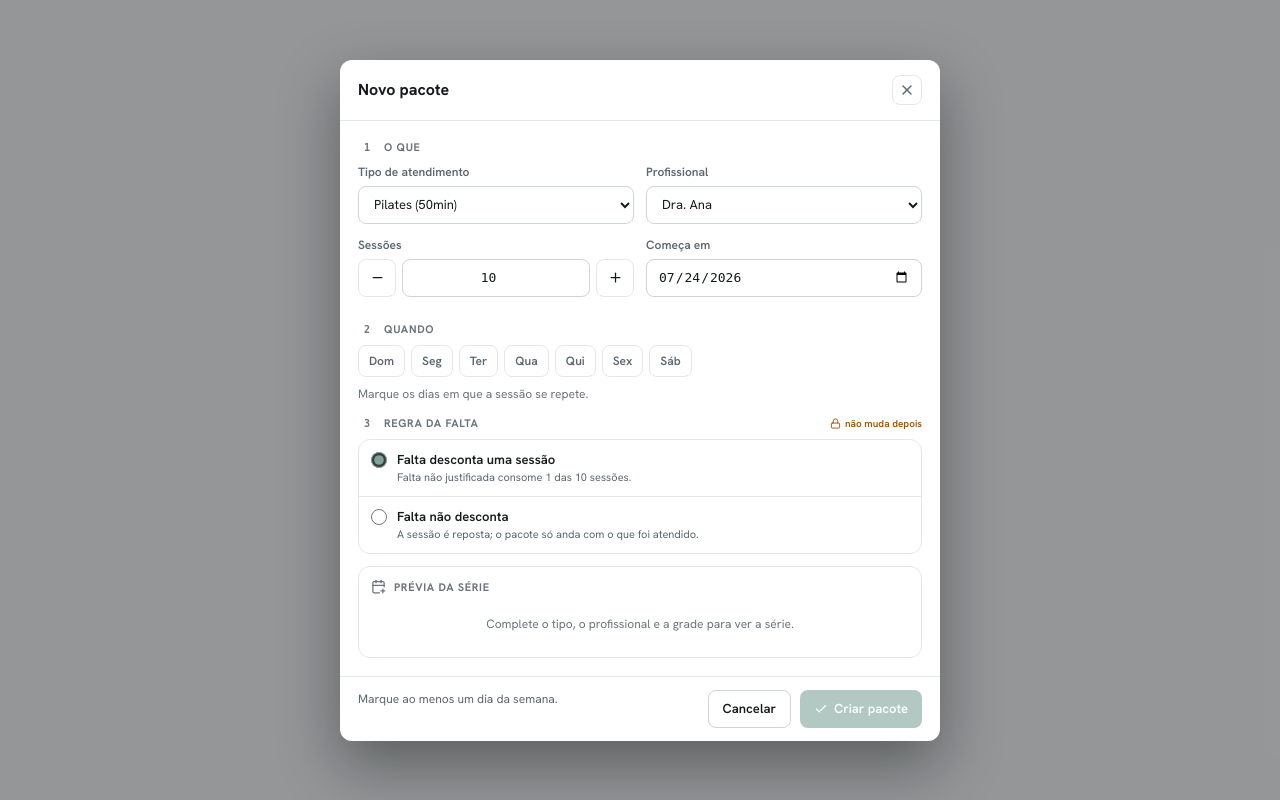
Test: PackageCreateModal › marcar um dia dispara a prévia ao vivo e habilita criar
Click the button "Seg" at (432,360), box [411,344,453,376]
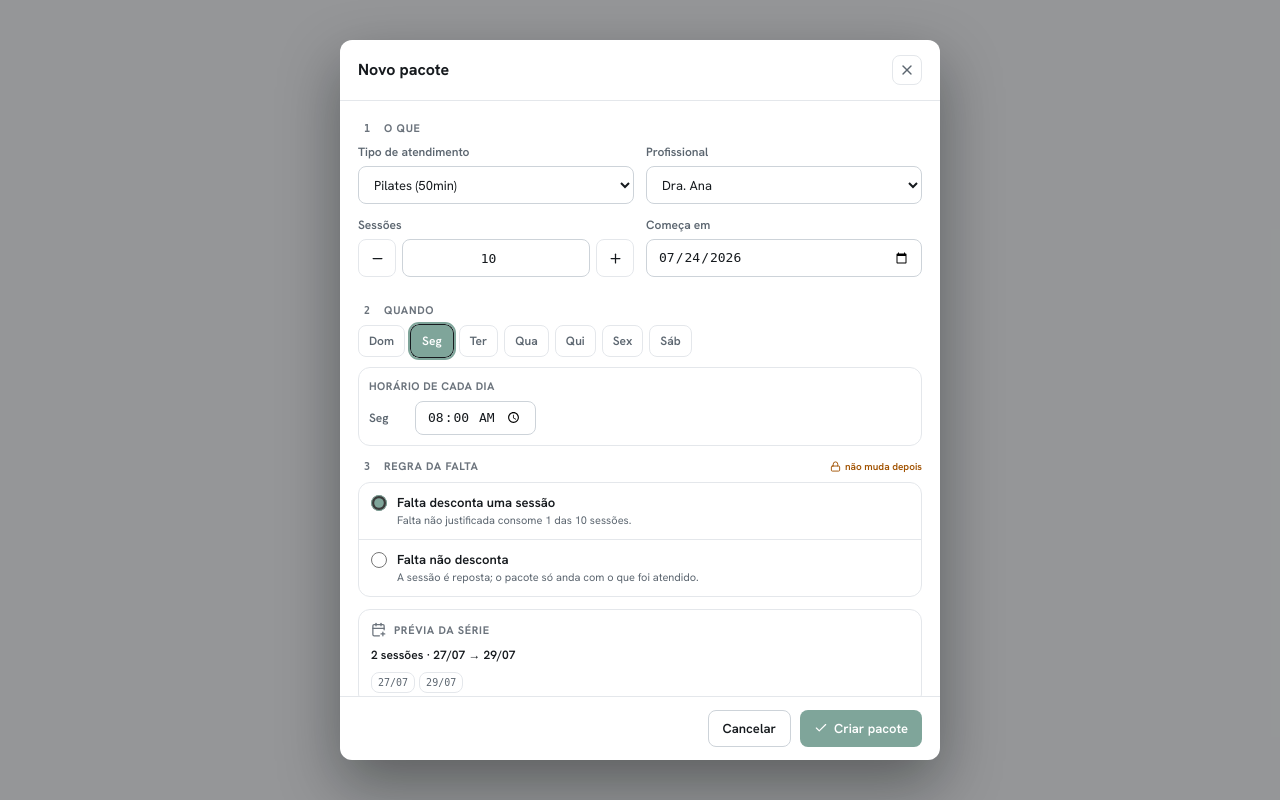
Result: the button "Criar pacote" is enabled at [800,710,922,747]
Result: the list item "27/07" is shown at [371,672,415,693]
Result: the list item "29/07" is shown at [419,672,463,693]
